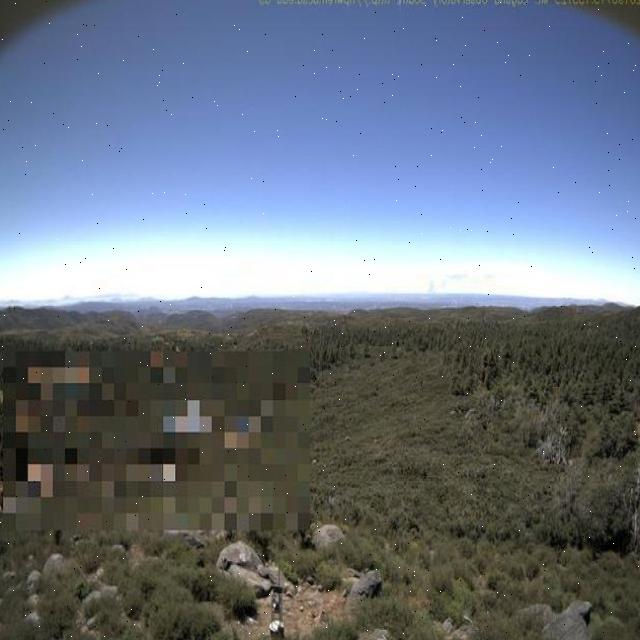smoke: (425, 265, 475, 299)
